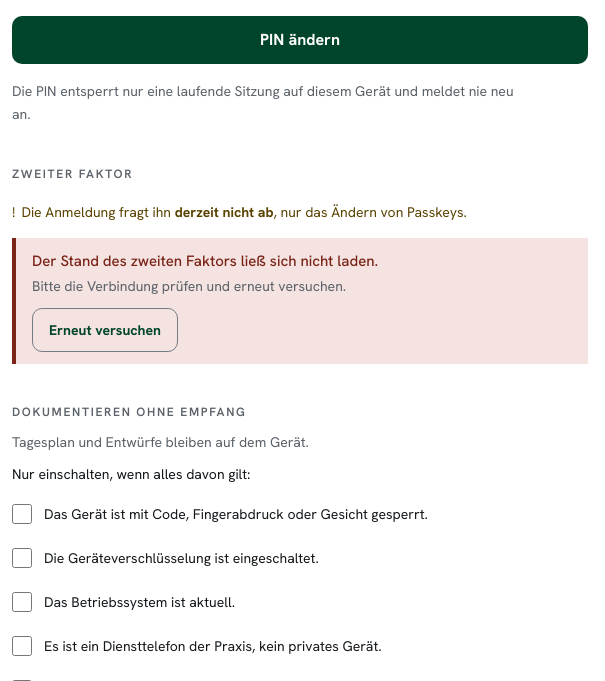
Scenario: MeinKontoPage — UXR-002 › bietet nach einem Ladefehler des zweiten Faktors einen neuen Versuch an (ZST-04)
(page scrolled)
Expected: the text "Der Stand des zweiten Faktors ließ sich nicht laden." is shown, [32,251,378,271]
Expected: the text "Bitte die Verbindung prüfen und erneut versuchen." is shown, [32,277,346,295]
Click the button "Erneut versuchen".
click(105, 330)  # box [32,308,178,352]
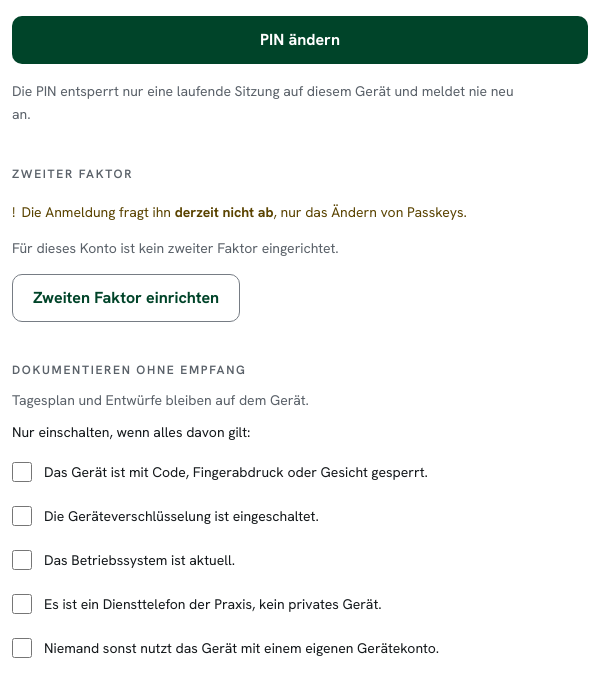
Now the text "Für dieses Konto ist kein zweiter Faktor eingerichtet." is shown, box [12,239,339,257]
